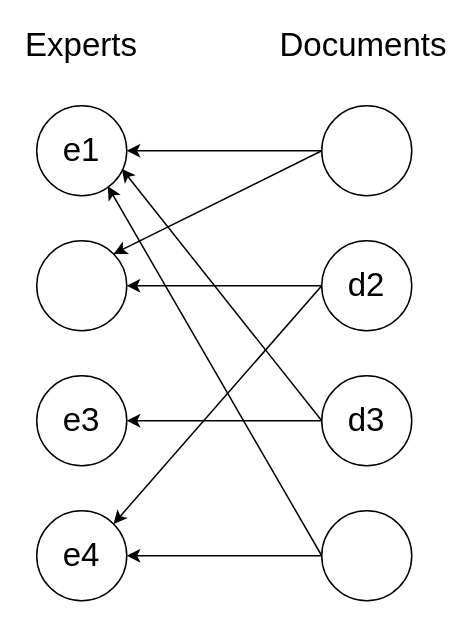
Some shapes in this 473 by 627 pixel diagram are drawn without their labels. The box of each missing label's shape, as (x1, y1, x2, y2) in pixels:
d1: (320, 104, 412, 196)
d4: (320, 509, 412, 601)
e2: (35, 239, 127, 331)
